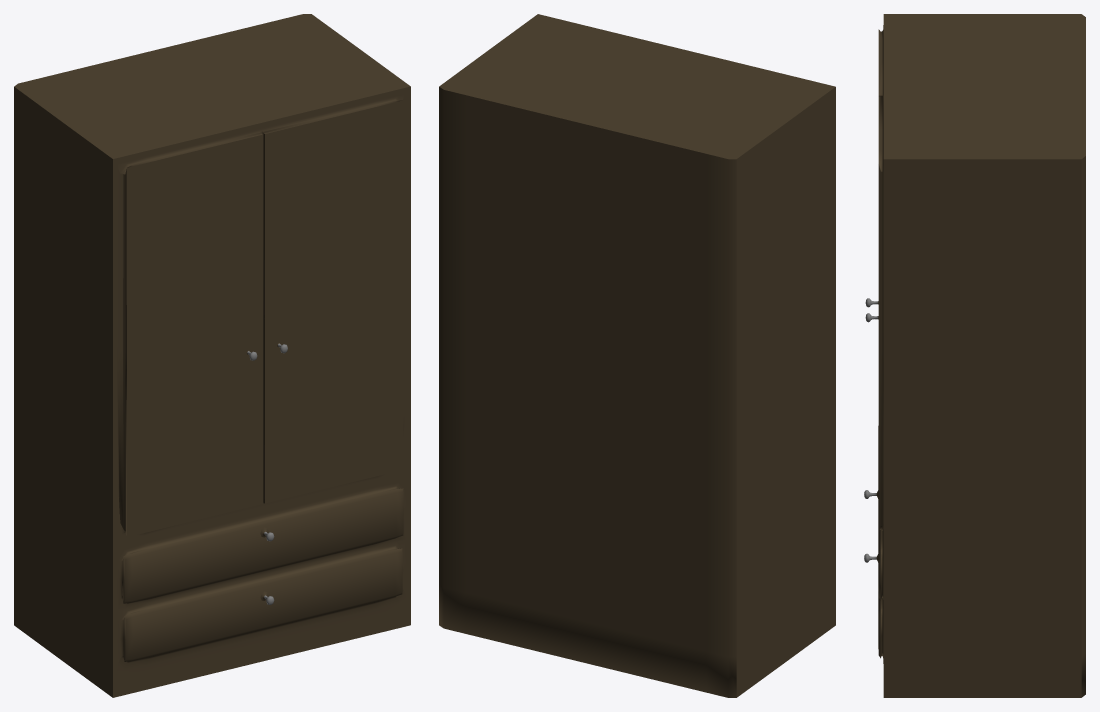
The model's file is PROJECT DREAM - Bedroom - Wardrobe.fbx.
3 renders of one model, left to right at view 1: azimuth 30°, elevation 25°; view 2: azimuth 150°, elevation 25°; view 3: azimuth 270°, elevation 25°, orthographic.
Parts seen in each view (by area): view 1: Bedroom - Wardrobe; view 2: Bedroom - Wardrobe; view 3: Bedroom - Wardrobe.
Part boxes in pixels (x1,y1,x2,y2): Bedroom - Wardrobe: (14,14,410,697); Bedroom - Wardrobe: (439,14,835,697); Bedroom - Wardrobe: (864,14,1085,697).
Bounding box in the file's own units: 189 × 326 × 122.
